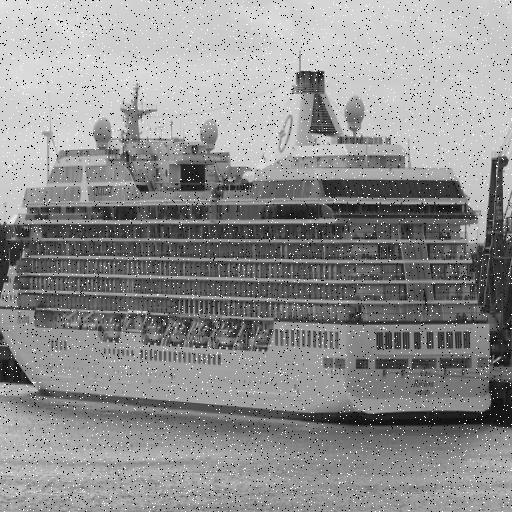cruises: (1, 68, 494, 433)
